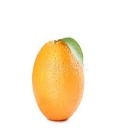orange: (29, 36, 86, 122)
